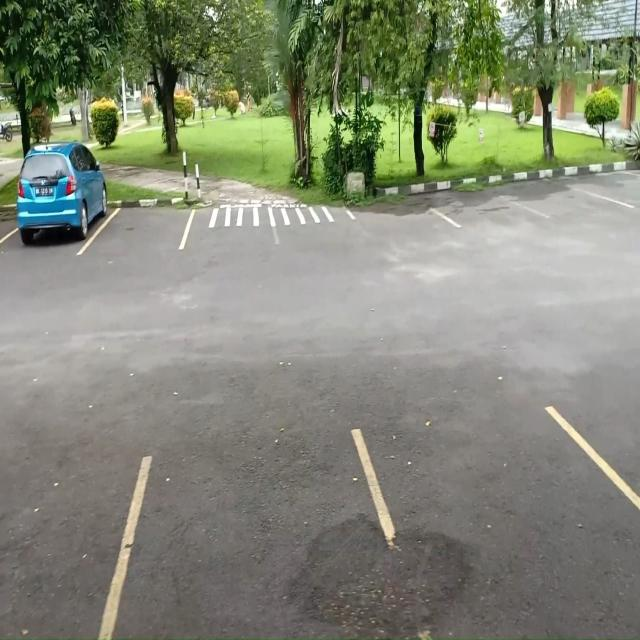empty: (361, 413, 640, 640), (124, 422, 368, 640), (84, 188, 190, 258)
occupied: (1, 180, 109, 255)
